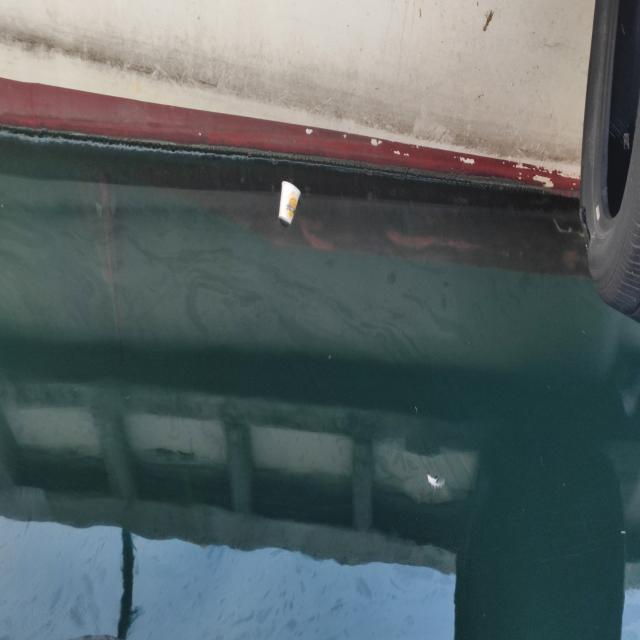Plastic cup: (276, 177, 302, 228)
